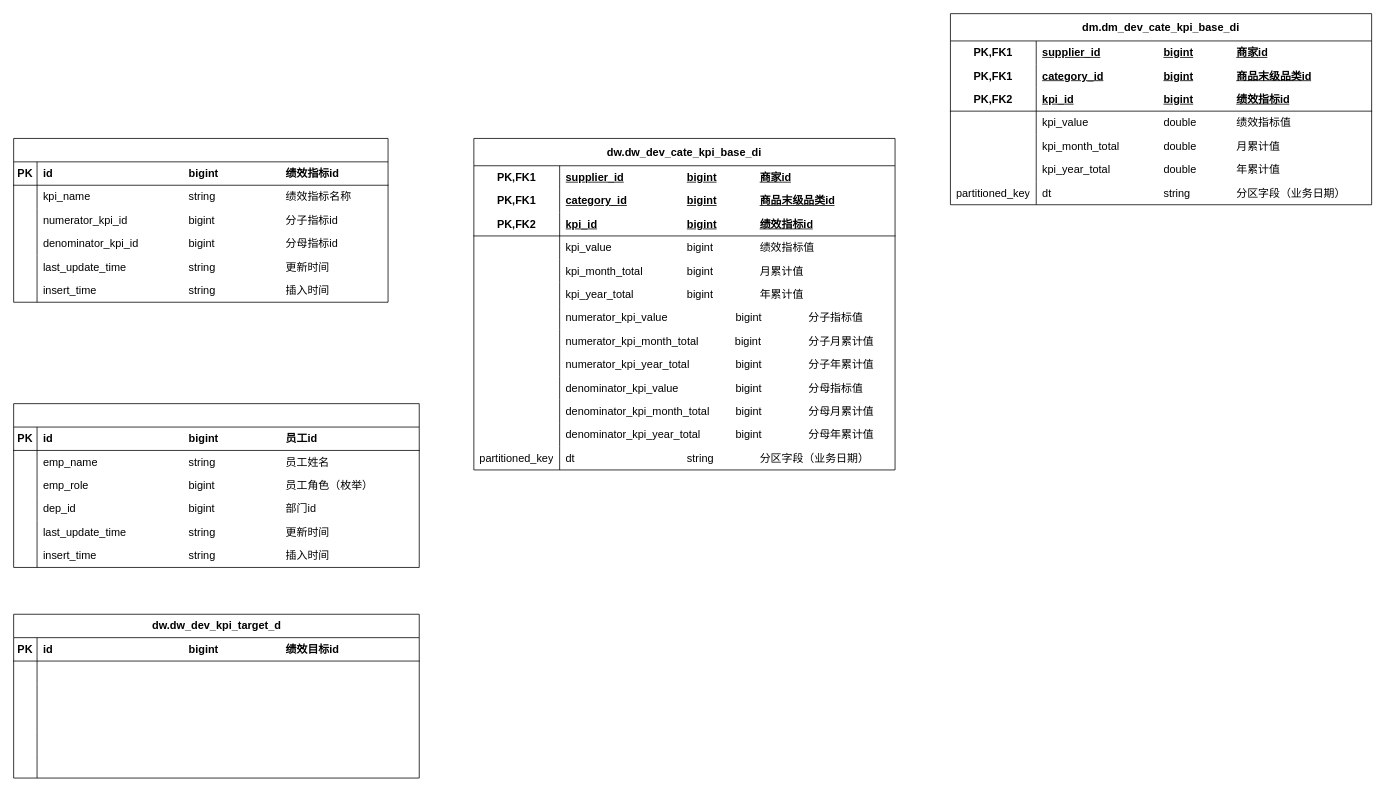
This 1385x792 diagram has some shape labels left out. The box of each missing label's shape, as (x1, y1, x2, y2) in pixels:
dw.dw_dev_emp_info_d: (13, 403, 419, 567)
dw.dw_supplier_kpi_info_d: (13, 138, 388, 302)
